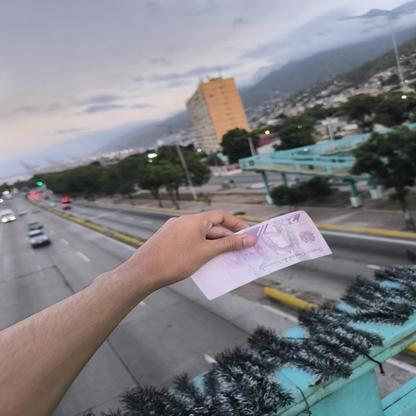one_hundred-back-vef: (188, 208, 334, 302)
